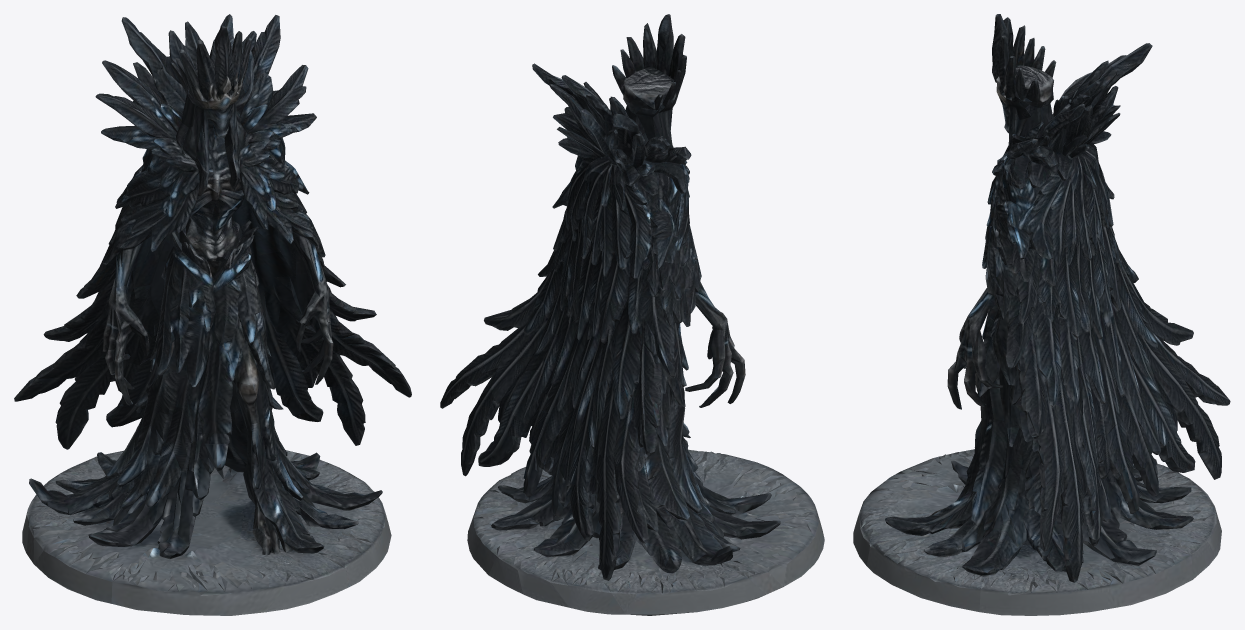
The picture shows the model from 3 angles, left to right: view 1: azimuth 30°, elevation 25°; view 2: azimuth 150°, elevation 25°; view 3: azimuth 270°, elevation 25°; orthographic projection. The views are drawn at different scales.
Parts seen in each view (by area): view 1: output_unwrapped; view 2: output_unwrapped; view 3: output_unwrapped.
Boxes of the visible parts, x1,y1,x2,y2 form: output_unwrapped: (14,14,411,615); output_unwrapped: (440,14,824,615); output_unwrapped: (853,14,1230,615).
Bounding box in the file's own units: 1.39 × 1.9 × 1.24.
1 material, 1 textured.
